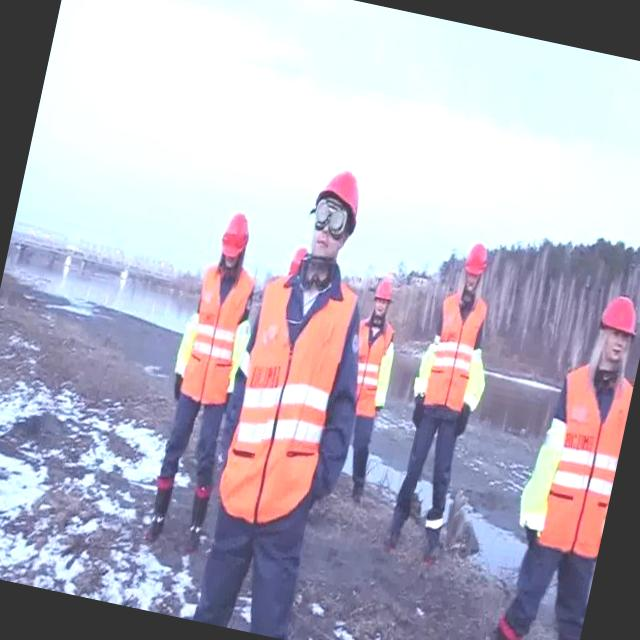gloves: (506, 394, 576, 546), (448, 327, 513, 423), (215, 306, 263, 397), (360, 332, 411, 416), (166, 302, 208, 384), (410, 325, 449, 406)
helmet: (309, 163, 369, 224), (216, 208, 254, 258), (597, 291, 640, 334), (461, 238, 490, 279), (374, 274, 396, 304), (290, 244, 308, 271)
vest: (213, 262, 356, 531), (528, 357, 636, 560), (176, 258, 256, 410), (418, 286, 491, 418), (339, 315, 397, 421)
